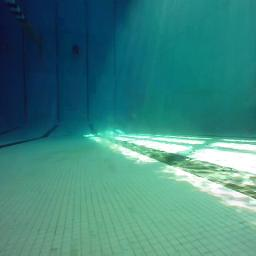Full: (71, 45, 80, 53)
